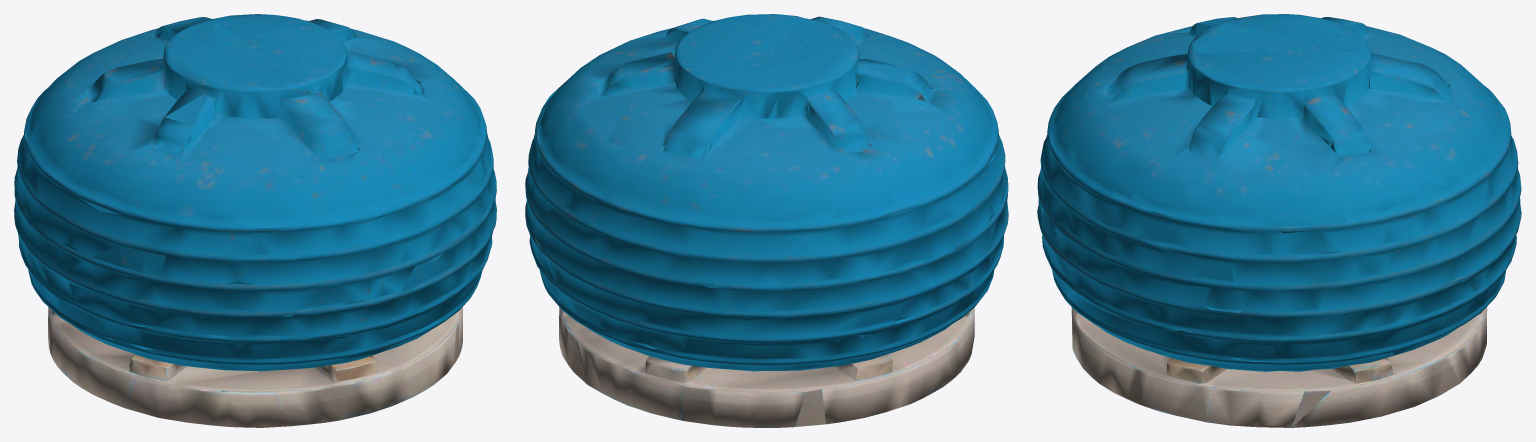
The model's file is fv_water_tank.glb.
The picture shows the model from 3 angles, left to right: view 1: azimuth 30°, elevation 25°; view 2: azimuth 150°, elevation 25°; view 3: azimuth 270°, elevation 25°; orthographic projection.
Visible parts, largest first — view 1: fv_water_tank; view 2: fv_water_tank; view 3: fv_water_tank.
Part boxes in pixels (x1=…): fv_water_tank: x1=14, y1=14, x2=496, y2=427; fv_water_tank: x1=525, y1=14, x2=1008, y2=427; fv_water_tank: x1=1037, y1=14, x2=1521, y2=427.
Bounding box in the file's own units: 1.6 × 1.06 × 1.6.
Materials: 1 (1 with a texture image).
